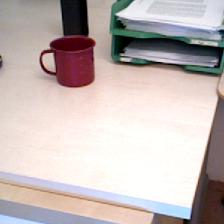YCB-Objects: (40, 35, 101, 90)
